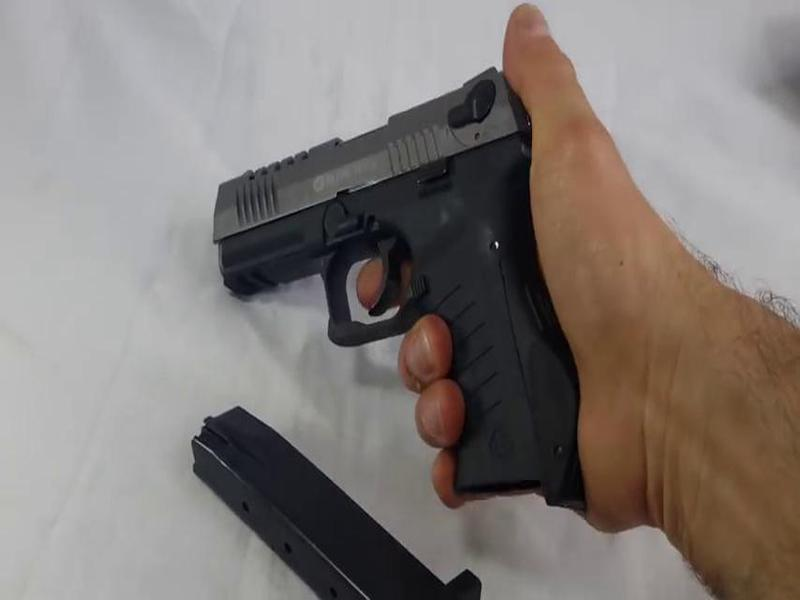Pistola: (181, 44, 616, 506)
